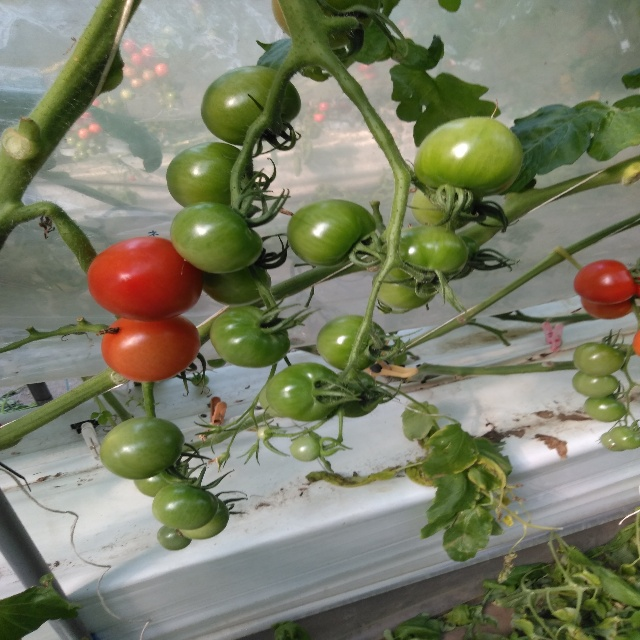l_fully_ripened: (87, 236, 203, 322), (574, 259, 637, 303), (581, 298, 633, 319)
l_green: (413, 117, 522, 197), (200, 64, 302, 146), (171, 201, 262, 275), (285, 198, 376, 268), (166, 142, 253, 211), (98, 416, 185, 481), (383, 225, 468, 290), (210, 306, 290, 369), (265, 362, 344, 422), (316, 315, 388, 371), (412, 184, 483, 231), (201, 261, 272, 307), (151, 482, 219, 530), (373, 270, 438, 310), (176, 498, 230, 540), (132, 461, 189, 499), (334, 370, 379, 417), (574, 342, 625, 377), (571, 371, 619, 398), (583, 394, 626, 422), (288, 435, 323, 462), (157, 525, 192, 551), (610, 426, 639, 449), (600, 431, 626, 451), (257, 426, 271, 440)
l_half_ripened: (100, 315, 201, 382)
